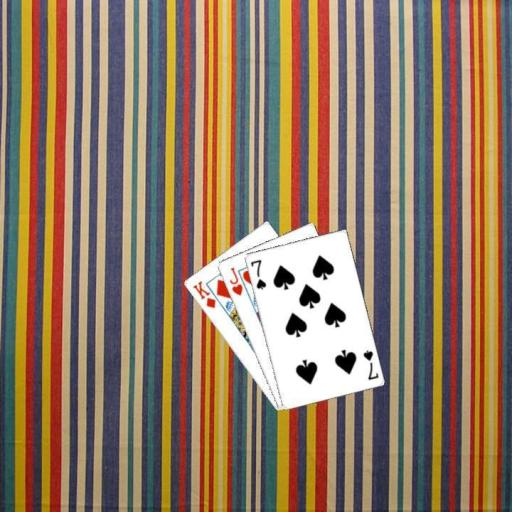card-corner: (189, 277, 217, 310), (247, 256, 267, 291), (360, 346, 380, 381), (226, 264, 244, 296)
